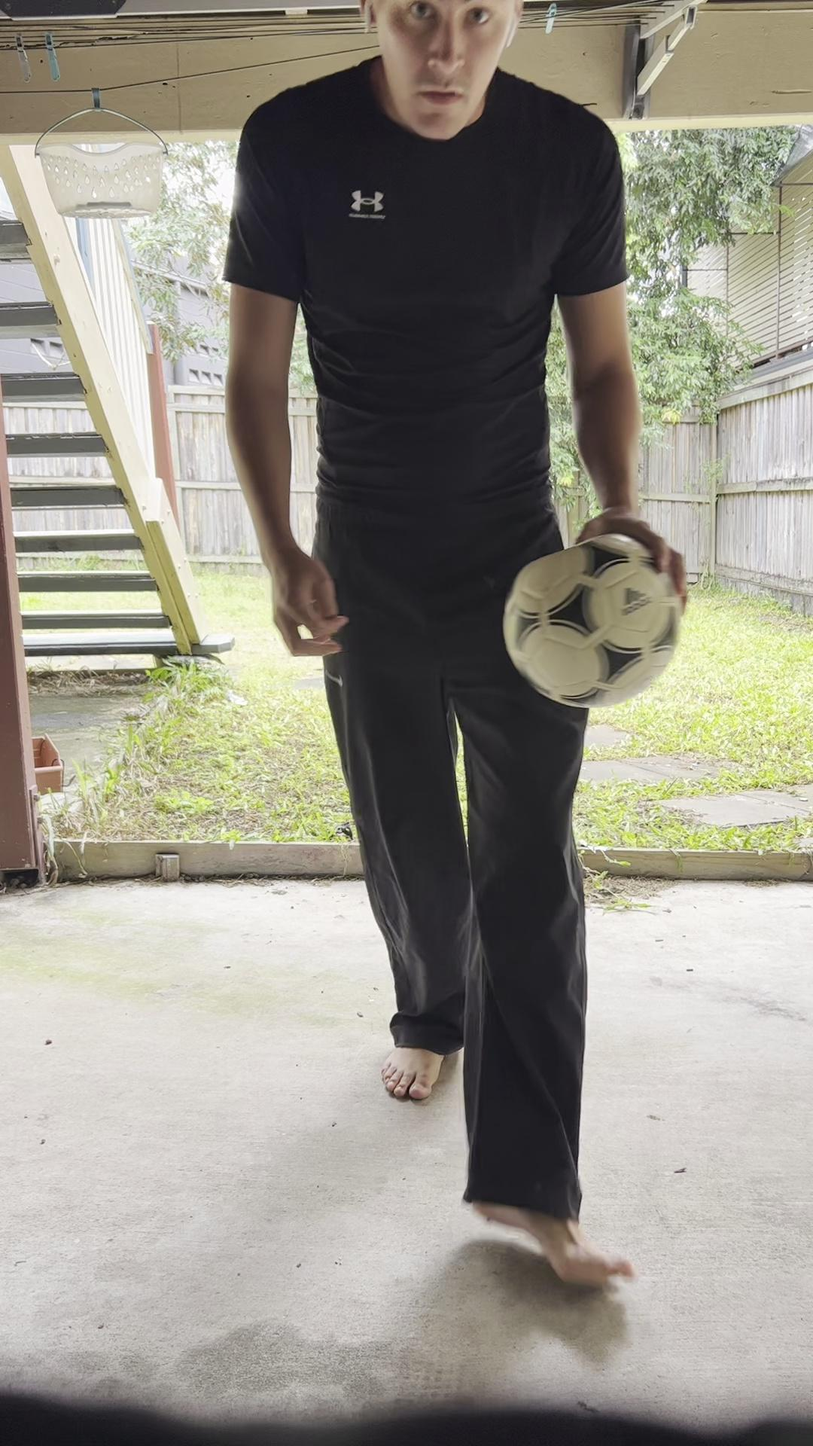ball: (499, 530, 689, 712)
foot: (470, 1195, 624, 1276), (380, 1042, 441, 1103)
person: (223, 0, 684, 1291)
